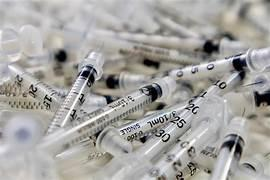Syringe: (94, 72, 243, 178), (38, 77, 175, 153), (135, 71, 243, 158), (143, 96, 223, 178), (47, 52, 103, 133), (166, 48, 269, 79), (91, 36, 203, 64), (94, 30, 224, 53), (8, 64, 61, 111), (115, 104, 184, 140), (211, 117, 246, 179), (101, 71, 150, 90)
